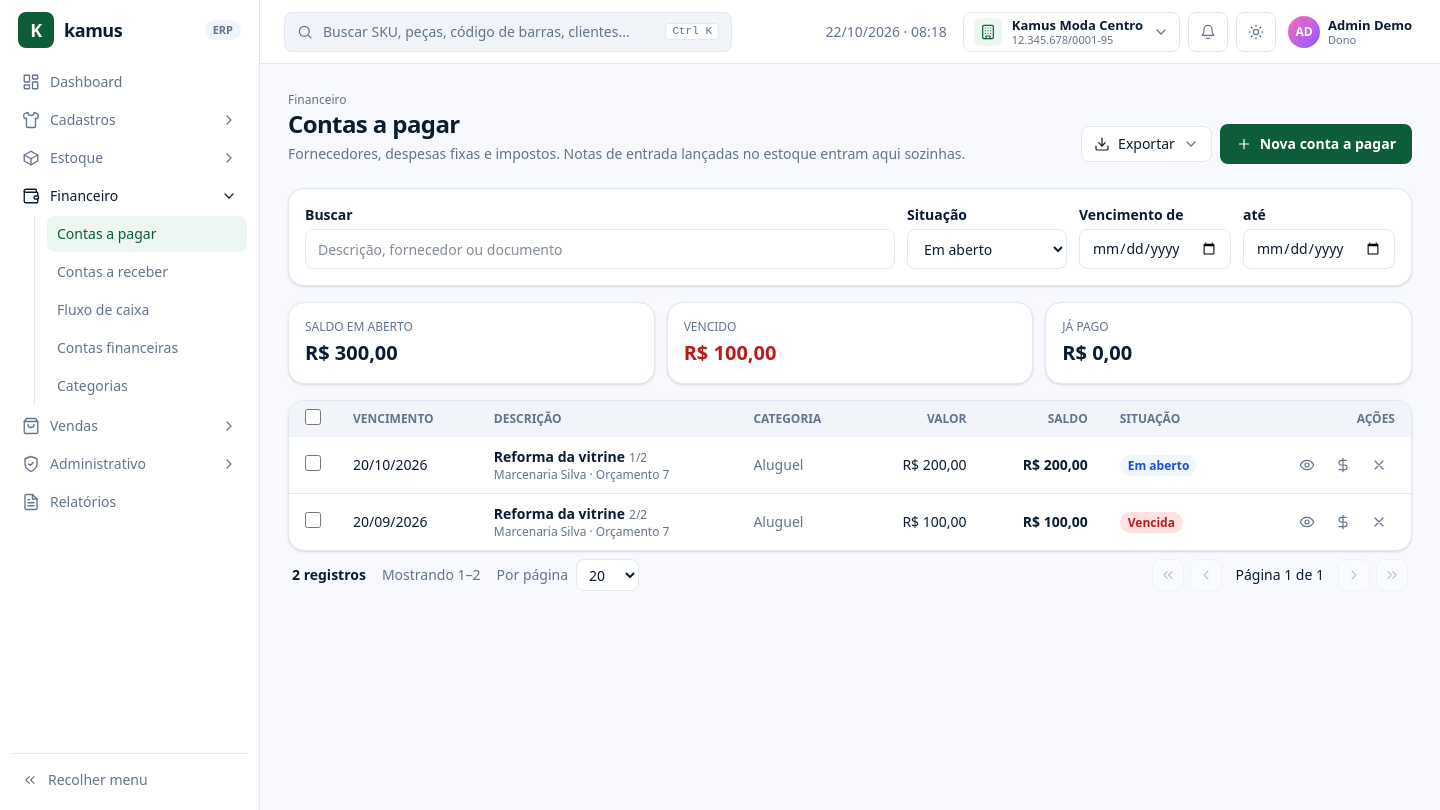
Test case: Financeiro → Contas a pagar › ação da linha: ver detalhe com baixas; estornar mostra o erro da API
Click the button named "Ver Reforma da vitrine 1/2" at (1307, 465), box x1=1291 y1=449 x2=1323 y2=481
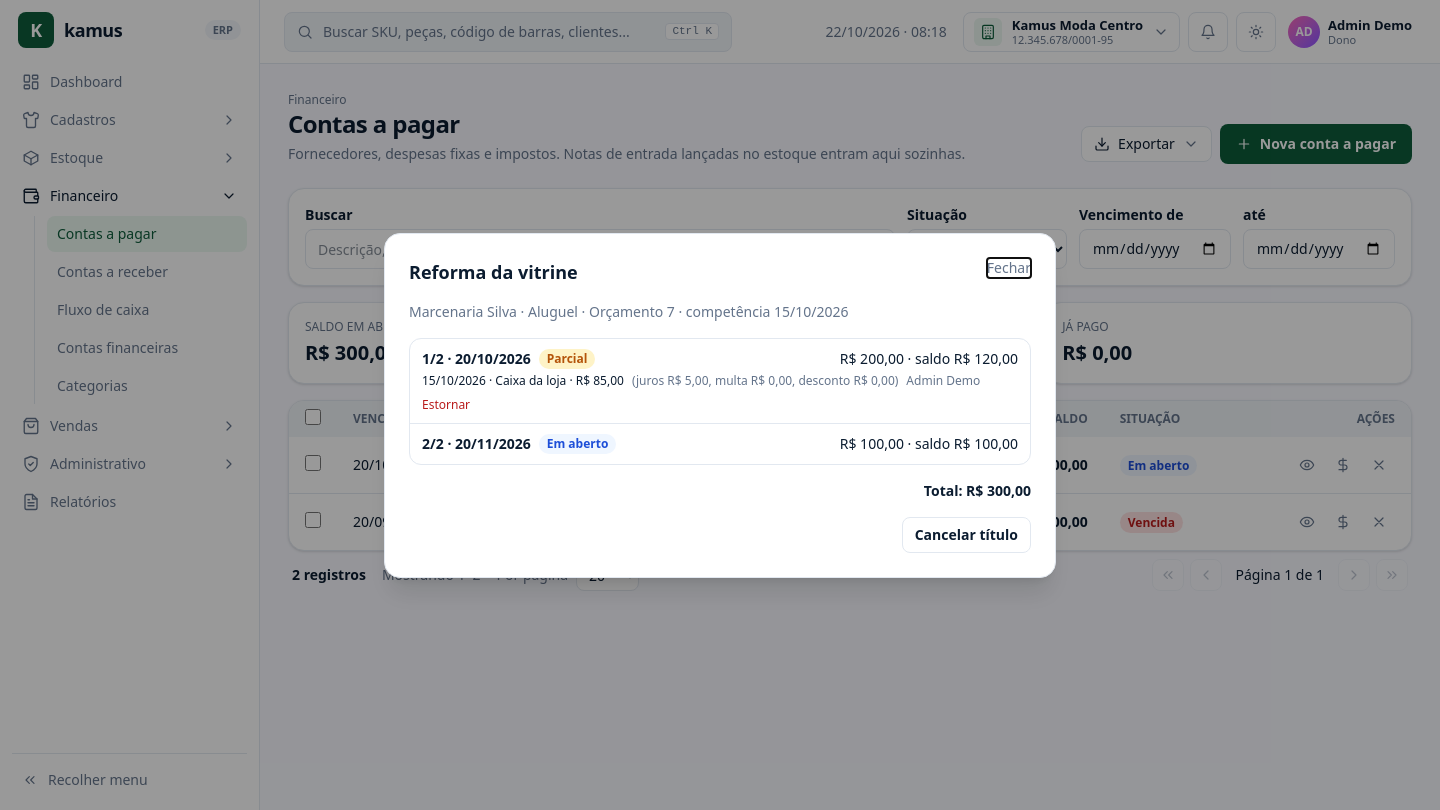
Now the text "15/10/2026 · Caixa da loja · R$ 85,00" is shown, box x1=422 y1=372 x2=624 y2=388
Click the button "Estornar" at (446, 404), box x1=422 y1=396 x2=470 y2=412
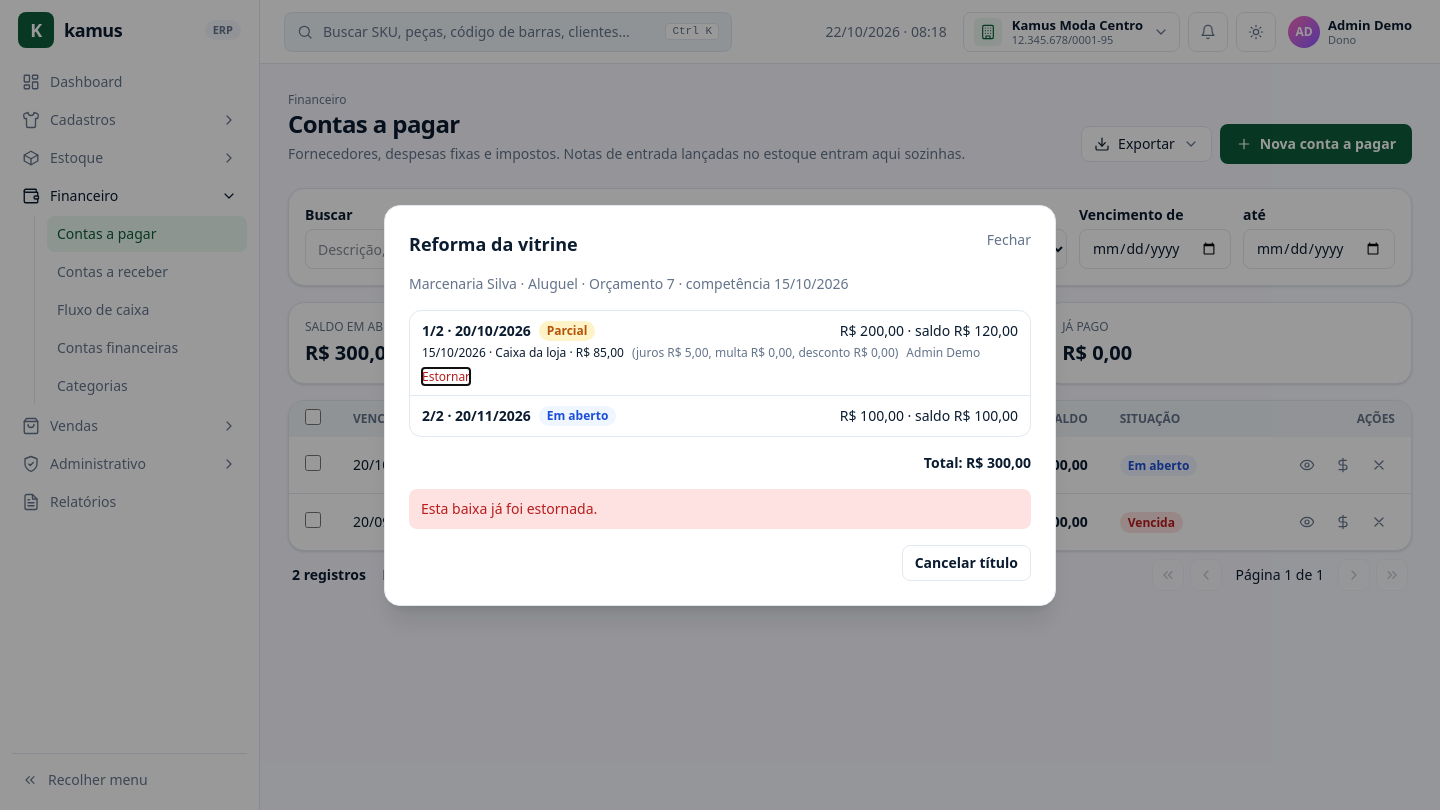
Now the message shows "já foi estornada", box x1=421 y1=498 x2=597 y2=518
